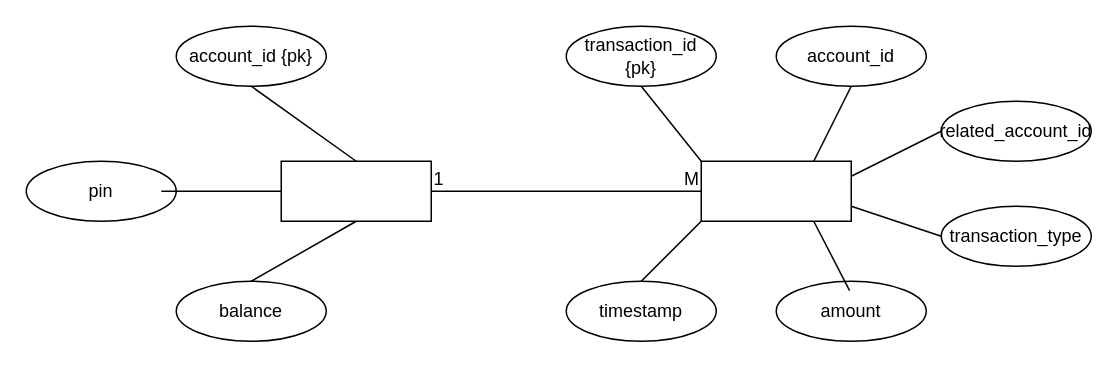
This 1118x368 diagram has some shape labels left out. Here are the shapes that lost their labels. From the top down, the centre of each, then its label:
pixel 355 190: ACCOUNT
pixel 775 190: TRANSACTION
